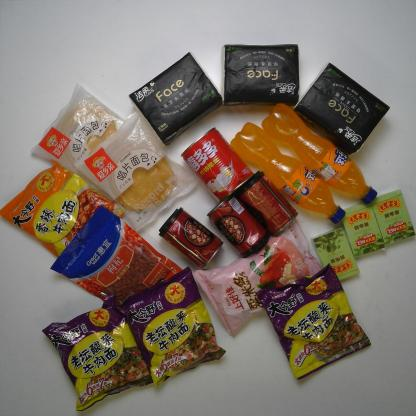Candy: (338, 198, 387, 259), (368, 187, 416, 247), (310, 226, 361, 282)
Canned Food: (180, 124, 257, 206), (233, 169, 301, 238), (205, 190, 272, 260), (156, 206, 225, 270)
Dessert: (71, 109, 205, 234), (30, 81, 129, 181)
Dried Fruit: (48, 204, 187, 310)
Drink: (260, 100, 380, 207), (228, 121, 348, 226)
Instant Noodles: (40, 292, 159, 413), (254, 262, 372, 382), (116, 264, 228, 388), (0, 158, 126, 263)
Puffed Food: (188, 214, 324, 338)
Tissue: (291, 60, 393, 158), (126, 50, 225, 148), (220, 41, 303, 108)
